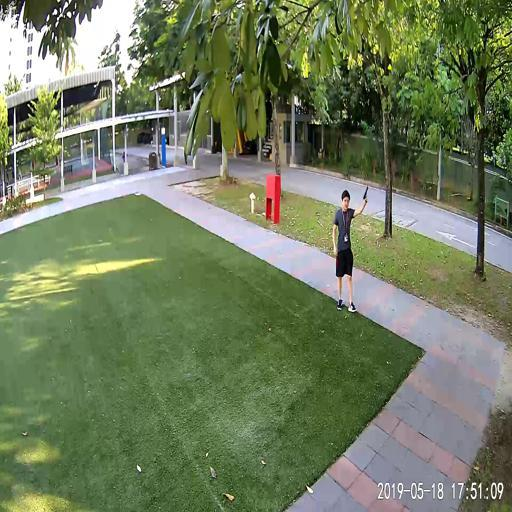Handgun: (361, 184, 367, 201)
